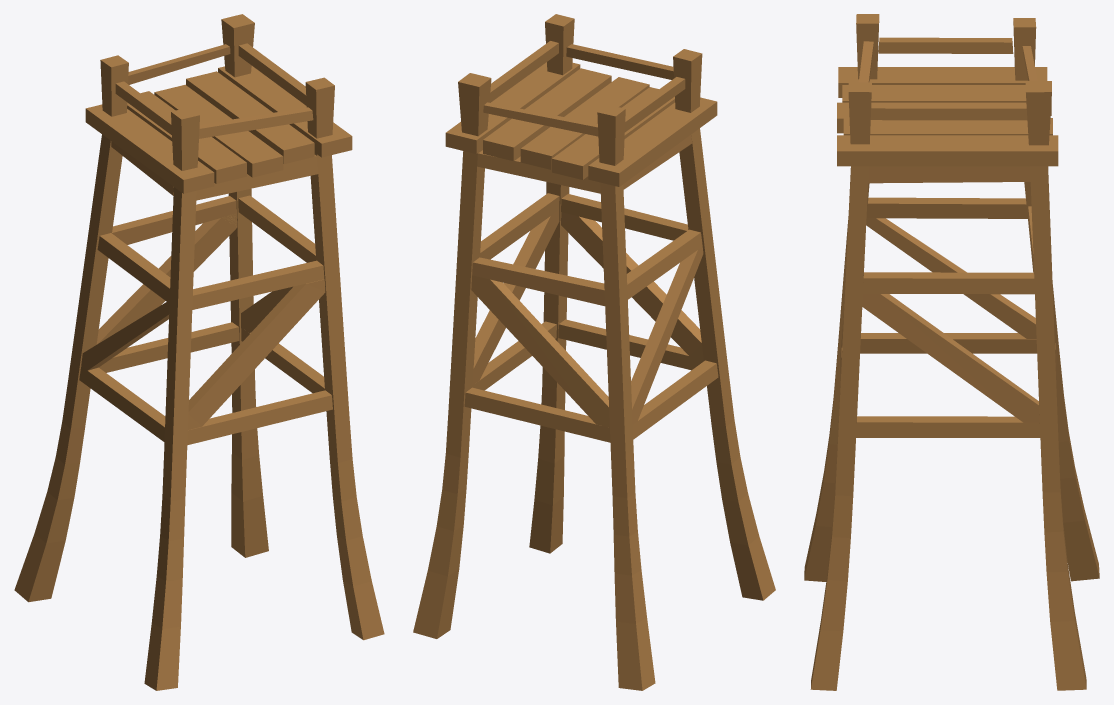
File: defense tower.fbx
The picture shows the model from 3 angles, left to right: view 1: azimuth 30°, elevation 25°; view 2: azimuth 150°, elevation 25°; view 3: azimuth 270°, elevation 25°; orthographic projection. The views are drawn at different scales.
Parts seen in each view (by area): view 1: Cube.053; view 2: Cube.053; view 3: Cube.053.
Part boxes in pixels (x1,y1,x2,y2): Cube.053: [14, 14, 384, 690]; Cube.053: [413, 14, 775, 690]; Cube.053: [804, 14, 1099, 690].
Bounding box in the file's own units: 613 × 1359 × 623.
